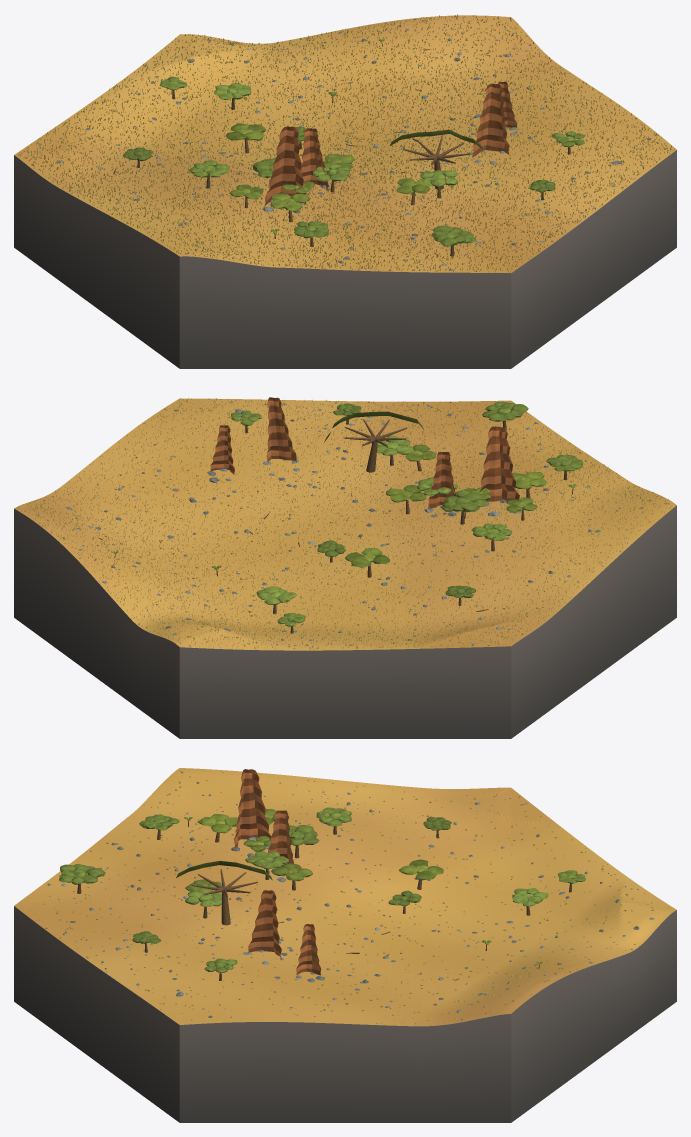
The picture shows the model from 3 angles, top to bottom: view 1: azimuth 30°, elevation 25°; view 2: azimuth 150°, elevation 25°; view 3: azimuth 270°, elevation 25°; orthographic projection.
Parts seen in each view (by area): view 1: terrain, hex_side_cut, wildflowers, broadleaf_canopy, rock_escarpments, shrubs, boulders, trunks, branches; view 2: terrain, hex_side_cut, wildflowers, broadleaf_canopy, rock_escarpments, boulders, shrubs, trunks, branches; view 3: terrain, hex_side_cut, broadleaf_canopy, rock_escarpments, shrubs, boulders, trunks, branches.
Part boxes in pixels (<box>): terrain: <box>14,15,676,272</box>; hex_side_cut: <box>14,150,676,368</box>; wildflowers: <box>18,14,674,272</box>; broadleaf_canopy: <box>123,39,584,246</box>; rock_escarpments: <box>264,81,517,206</box>; shrubs: <box>26,16,663,270</box>; boulders: <box>22,25,650,270</box>; trunks: <box>137,42,570,256</box>; branches: <box>113,49,573,174</box>; terrain: <box>14,398,676,650</box>; hex_side_cut: <box>14,505,676,738</box>; wildflowers: <box>17,398,670,649</box>; broadleaf_canopy: <box>112,401,583,626</box>; rock_escarpments: <box>210,397,519,508</box>; boulders: <box>35,402,667,646</box>; shrubs: <box>27,399,669,649</box>; trunks: <box>114,415,573,633</box>; branches: <box>98,419,488,611</box>; terrain: <box>14,768,676,1026</box>; hex_side_cut: <box>14,906,676,1122</box>; broadleaf_canopy: <box>59,807,585,972</box>; rock_escarpments: <box>233,769,321,975</box>; shrubs: <box>21,770,669,1024</box>; boulders: <box>34,772,654,1020</box>; trunks: <box>77,820,571,980</box>; branches: <box>191,821,508,984</box>.
Size of the model in its own units: 4330 by 1498 by 5000.
